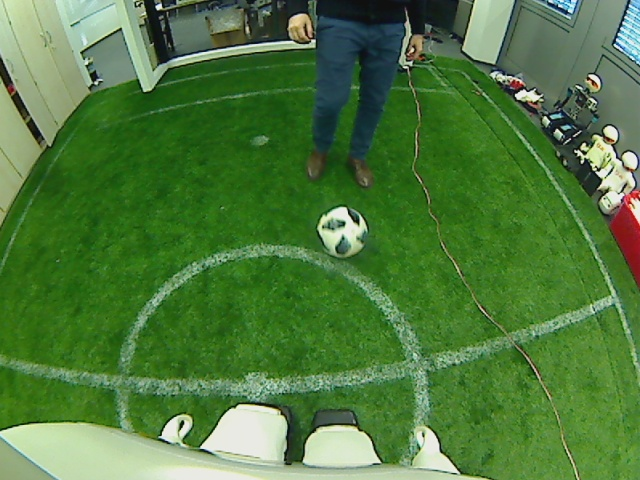ball: (314, 204, 370, 259)
